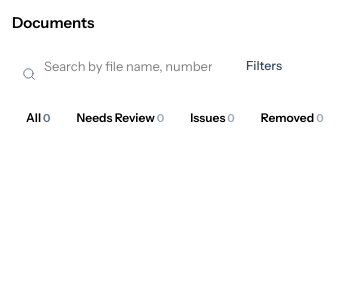
Test: RevisionDocuments filters › ignores a slow earlier response that finishes after a newer one
Type "fresh" into the field labelled "Search" at (118, 66), box [12,46,224,86]
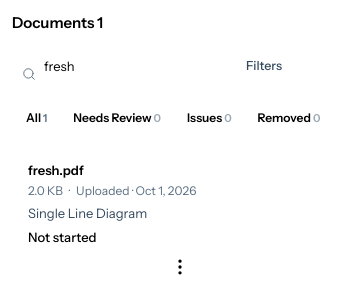
Expected: the text "fresh.pdf" is shown, [28,162,84,178]
